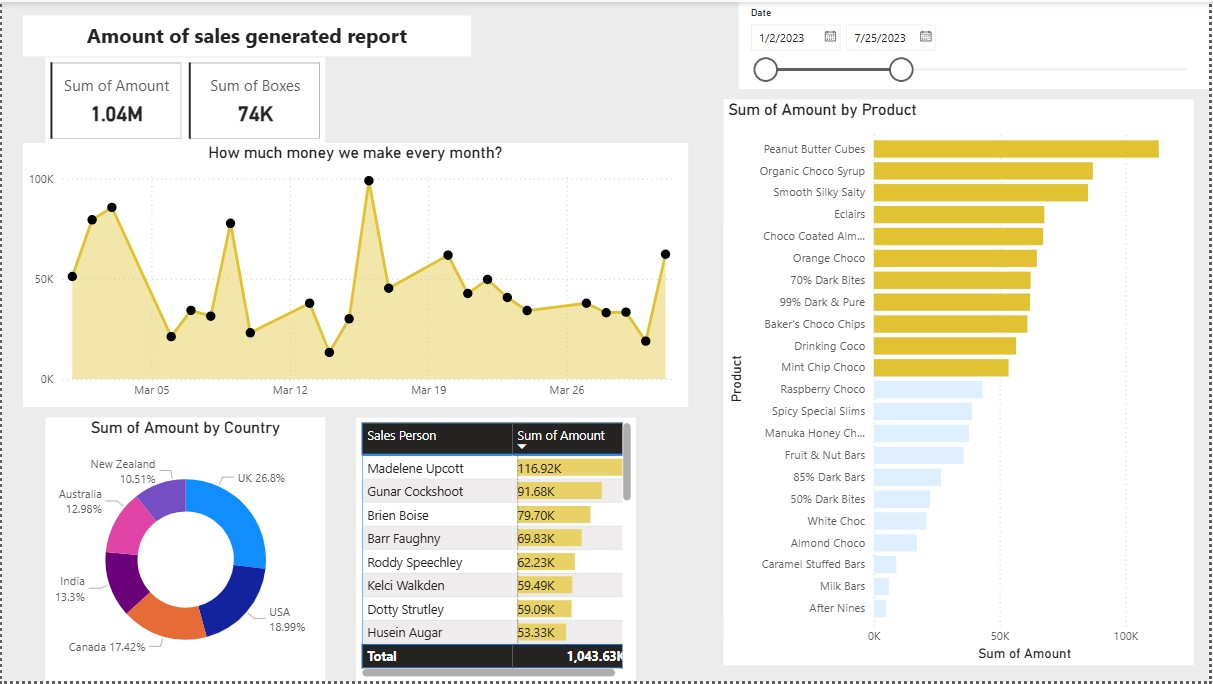

This screenshot's page, from the dashboard's own definition file:
{"tool":"powerbi","page":{"name":"Page 2","canvas":[1280,720],"ordinal":0},"visuals":[{"type":"lineChart","title":"How much money we make every month?","fields":{"Category":["data.Date.Variation.Date Hierarchy.Year","data.Date.Variation.Date Hierarchy.Quarter","data.Date.Variation.Date Hierarchy.Month","data.Date.Variation.Date Hierarchy.Day"],"Y":["data.Amount"]},"box":[21.7,150,705,280],"z":0},{"type":"donutChart","fields":{"Category":["data.Country"],"Y":["data.Amount"]},"box":[46.7,440,296.7,280],"z":1000},{"type":"tableEx","fields":{"Values":["data.Sales Person","data.Amount"]},"box":[375,440,296.7,280],"z":2000},{"type":"barChart","fields":{"Category":["data.Product"],"Y":["data.Amount"]},"box":[765,103.3,498.3,600],"z":3000},{"type":"cardVisual","fields":{"Data":["data.Amount","data.Boxes"]},"box":[46.7,58.3,296.7,91.7],"z":4000},{"type":"slicer","fields":{"Values":["data.Date"]},"box":[781.7,0,498.3,91.7],"z":5000},{"type":"textbox","box":[21.7,15,475,43.3],"z":6000}]}

Visuals, with their boxes in screenshot pixels (x1, y1, x2, y2), scaled from the page's 1280x720 canvas onto the 1213x684 screenshot:
"How much money we make every month?" lineChart: 21, 142, 689, 408
donutChart - data.Country x data.Amount: 44, 418, 325, 683
tableEx - data.Sales Person x data.Amount: 355, 418, 637, 683
barChart - data.Product x data.Amount: 725, 98, 1197, 668
cardVisual - data.Amount x data.Boxes: 44, 55, 325, 142
slicer - data.Date: 741, 0, 1212, 87
textbox: 21, 14, 471, 55
